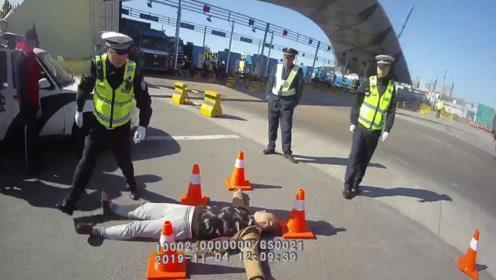Fall-Detected: (71, 188, 282, 265)
